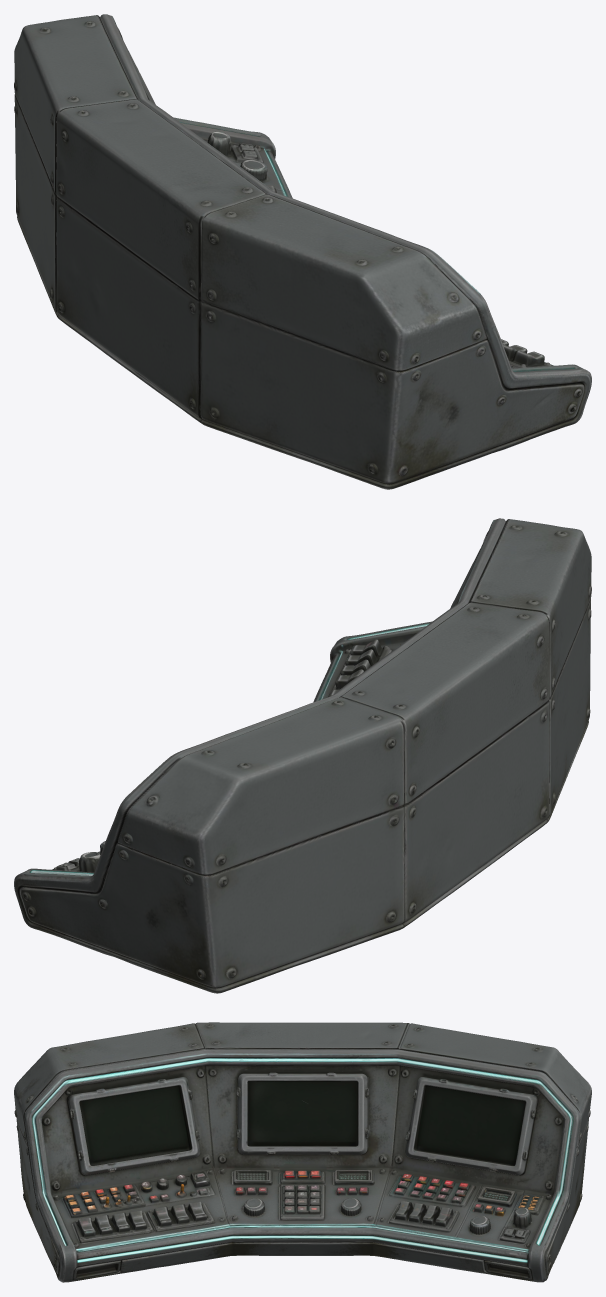
Rendered from cockpit_console.glb.
The picture shows the model from 3 angles, top to bottom: view 1: azimuth 30°, elevation 25°; view 2: azimuth 150°, elevation 25°; view 3: azimuth 270°, elevation 25°; orthographic projection. The views are drawn at different scales.
Parts seen in each view (by area): view 1: tripo_node_3267de65-dd34-46ee-a1d8-c501c0242604; view 2: tripo_node_3267de65-dd34-46ee-a1d8-c501c0242604; view 3: tripo_node_3267de65-dd34-46ee-a1d8-c501c0242604.
Part boxes in pixels (bbox=[...]): tripo_node_3267de65-dd34-46ee-a1d8-c501c0242604: bbox=[14, 14, 591, 489]; tripo_node_3267de65-dd34-46ee-a1d8-c501c0242604: bbox=[14, 518, 591, 993]; tripo_node_3267de65-dd34-46ee-a1d8-c501c0242604: bbox=[14, 1022, 591, 1282].
Size of the model in its own units: 0.4467 by 0.3012 by 0.9798.
Materials: 1 (1 with a texture image).
